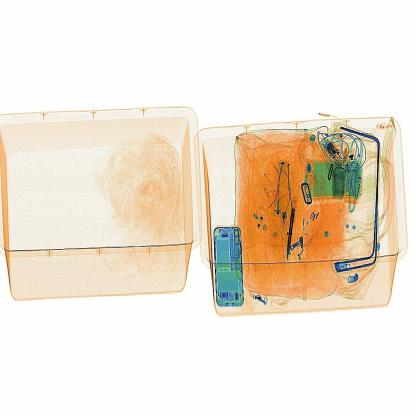gun: (278, 184, 306, 263)
